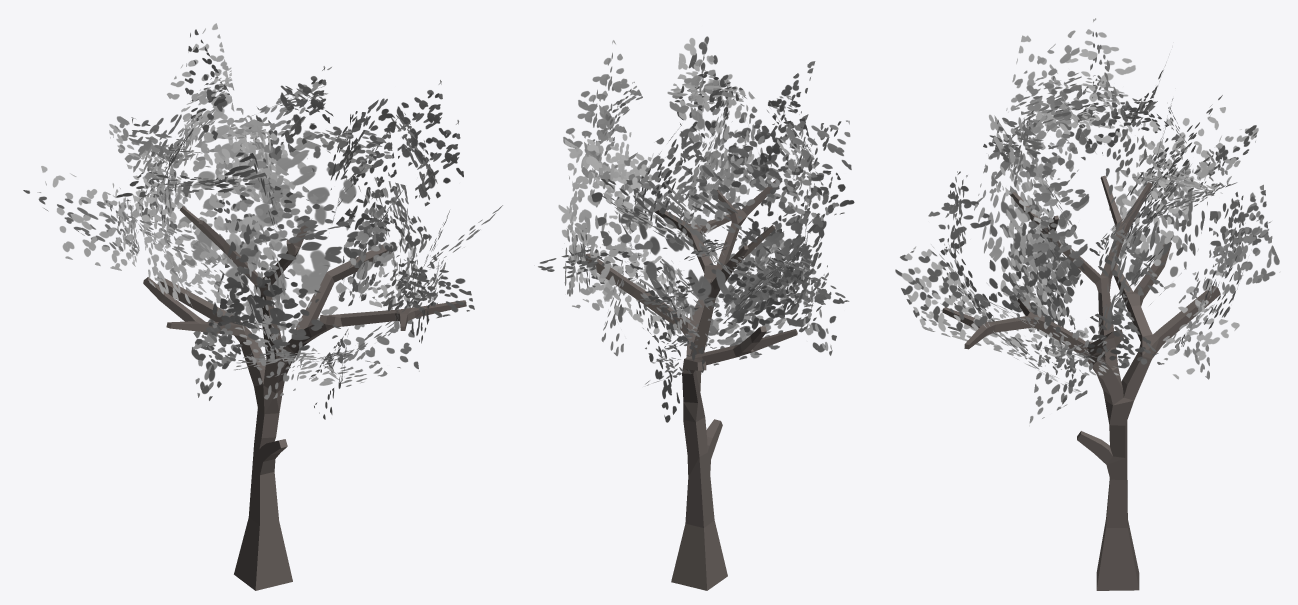
File: tree.glb
3 views of the same model, side by side, from view 1: azimuth 30°, elevation 25°; view 2: azimuth 150°, elevation 25°; view 3: azimuth 270°, elevation 25° (orthographic). The views are drawn at different scales.
Visible parts, largest first — view 1: leaves, root; view 2: leaves, root; view 3: leaves, root.
Part boxes in pixels (left/top/right/bottom): leaves: left=23, top=23, right=502, bottom=419; root: left=143, top=206, right=466, bottom=590; leaves: left=538, top=36, right=854, bottom=422; root: left=582, top=178, right=797, bottom=590; leaves: left=895, top=18, right=1279, bottom=425; root: left=942, top=175, right=1220, bottom=590.
Bounding box in the file's own units: 2.98 × 4.17 × 2.75.
Materials: 2 (1 with a texture image).
